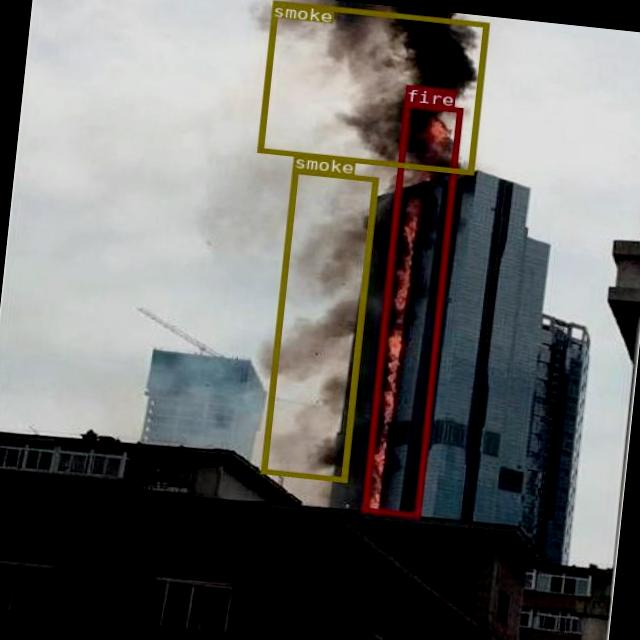fire: (360, 101, 460, 517)
smoke: (255, 0, 487, 174), (260, 168, 378, 480)
